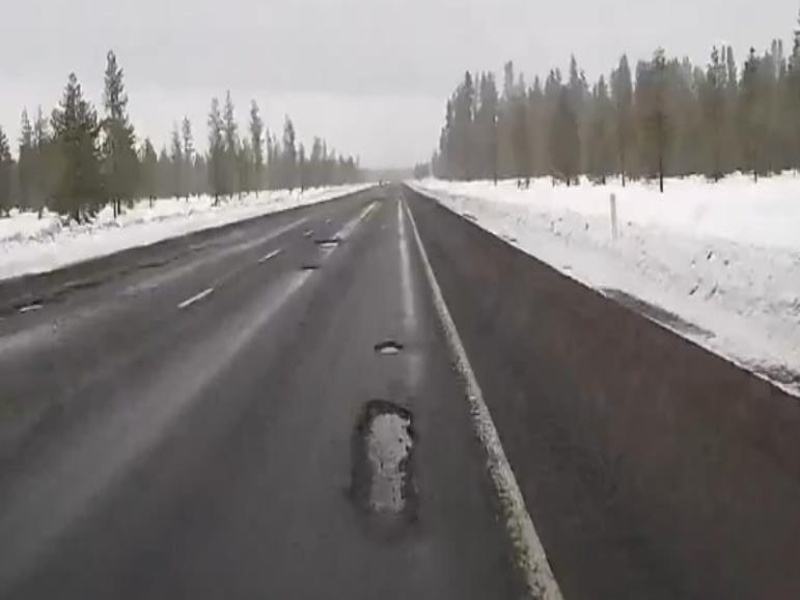pothole: (351, 397, 420, 530), (370, 335, 409, 360)
